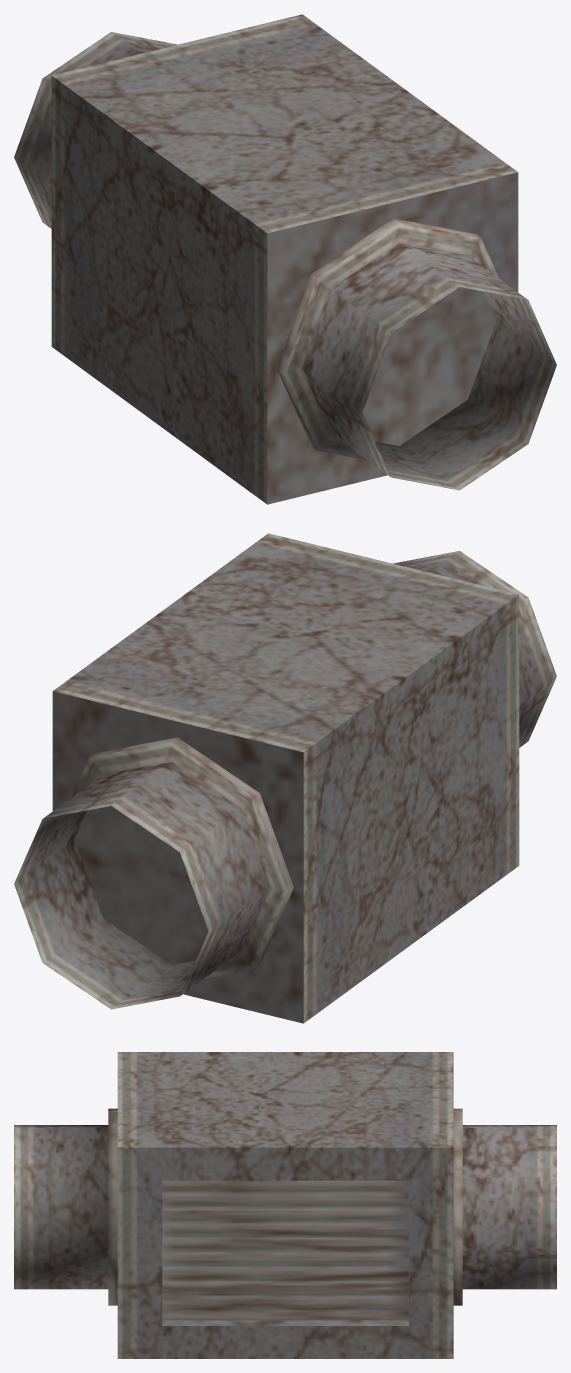
File: Vent_Pipe_C.fbx
3 renders of one model, top to bottom at view 1: azimuth 30°, elevation 25°; view 2: azimuth 150°, elevation 25°; view 3: azimuth 270°, elevation 25°, orthographic. The views are drawn at different scales.
Parts seen in each view (by area): view 1: Vent_Pipe_C; view 2: Vent_Pipe_C; view 3: Vent_Pipe_C.
Part boxes in pixels (left/top/right/bottom): Vent_Pipe_C: left=14, top=14, right=556, bottom=504; Vent_Pipe_C: left=14, top=533, right=556, bottom=1023; Vent_Pipe_C: left=14, top=1052, right=556, bottom=1358.
Bounding box in the file's own units: 83.13 × 85.9 × 200.
